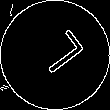L_SW: (25, 27, 85, 82)
